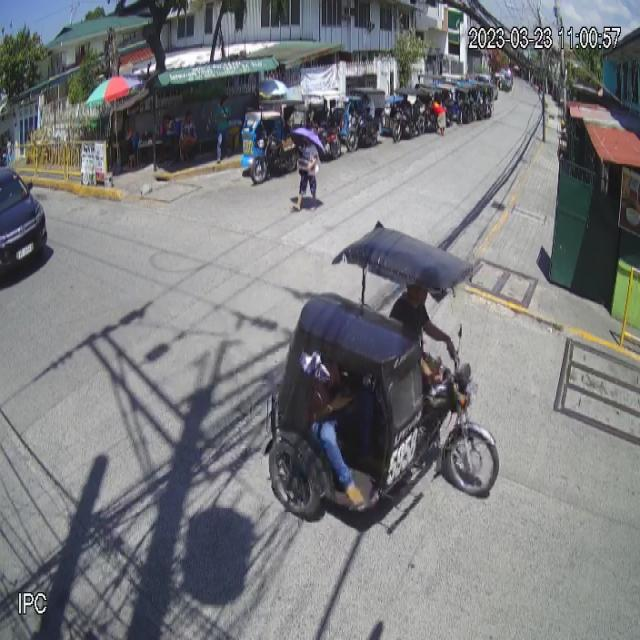Tricycle: (263, 218, 502, 524)
